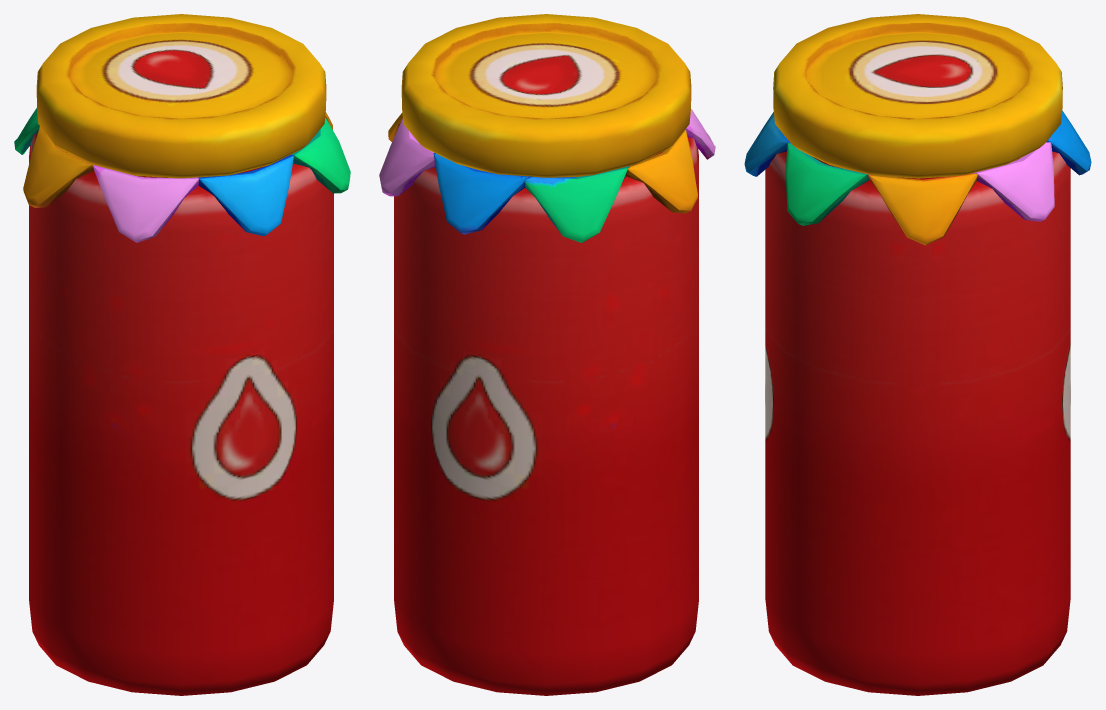
File: JamJar_Red_2y.glb
3 renders of one model, left to right at view 1: azimuth 30°, elevation 25°; view 2: azimuth 150°, elevation 25°; view 3: azimuth 270°, elevation 25°, orthographic.
Size of the model in its own units: 1.1 by 1.99 by 1.1.
Materials: 1 (1 with a texture image).
